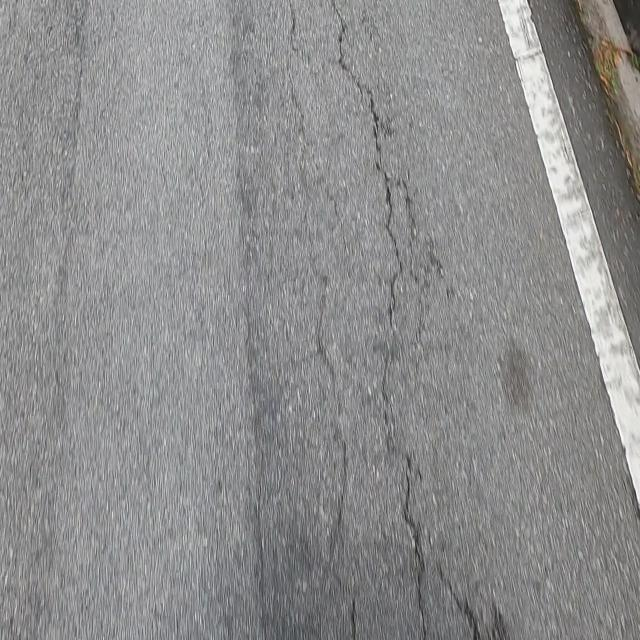Retak-Memanjang: (328, 3, 427, 640), (439, 570, 482, 638)
